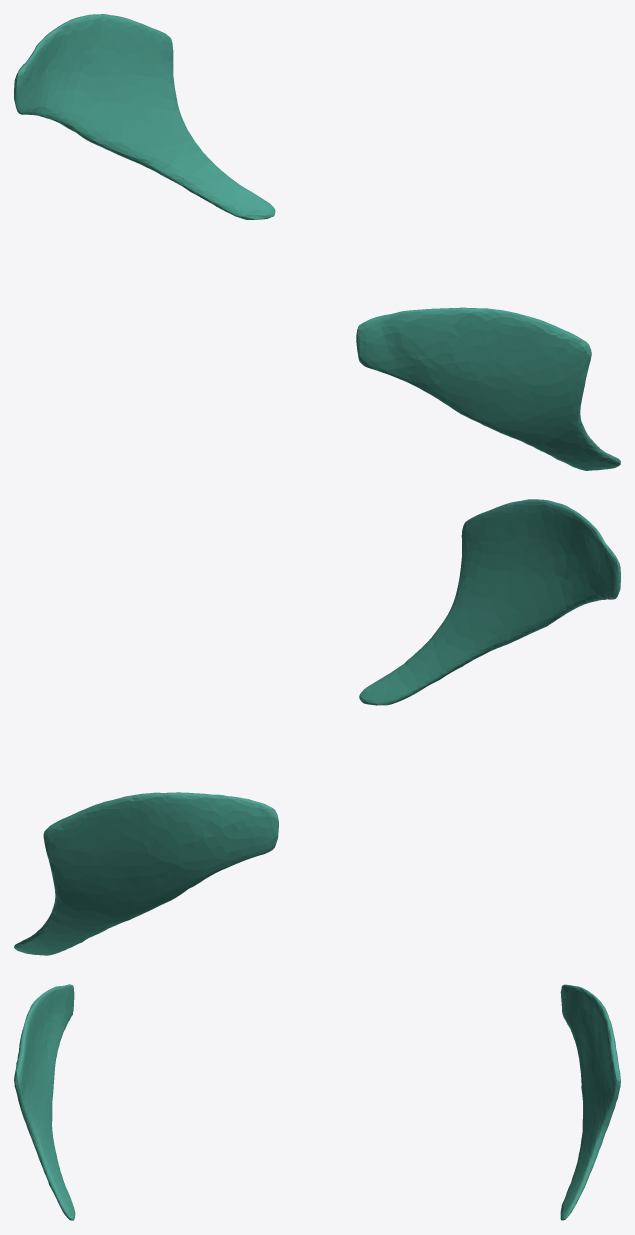
3 views of the same model, one above another, from view 1: azimuth 30°, elevation 25°; view 2: azimuth 150°, elevation 25°; view 3: azimuth 270°, elevation 25° (orthographic). The views are drawn at different scales.
Parts seen in each view (by area): view 1: 873.obj; view 2: 873.obj; view 3: 873.obj.
Boxes of the visible parts, x1=… form: 873.obj: x1=14, y1=14, x2=620, y2=470; 873.obj: x1=14, y1=499, x2=620, y2=955; 873.obj: x1=14, y1=984, x2=620, y2=1220.
Size of the model in its own units: 3601 by 2911 by 10074.
